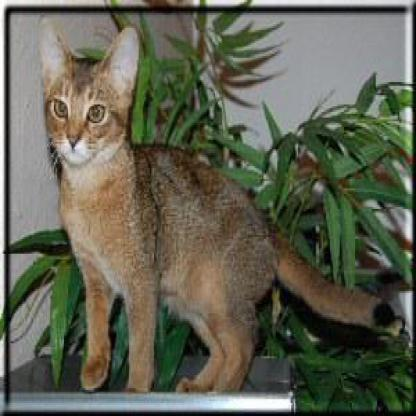cat: (37, 13, 391, 397)
